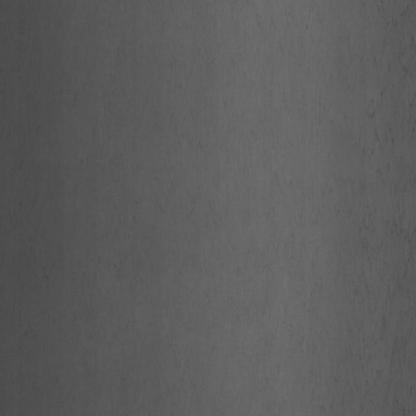silk_spot: (346, 122, 409, 363)
